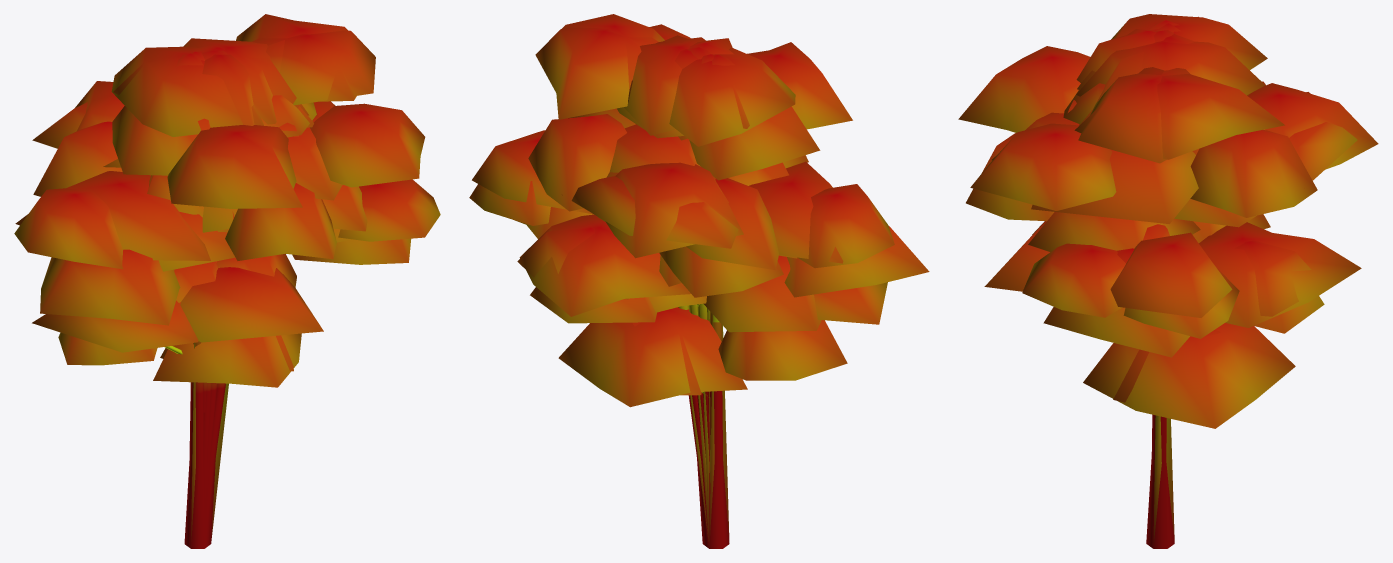
Rendered from coastpine.glb.
The picture shows the model from 3 angles, left to right: view 1: azimuth 30°, elevation 25°; view 2: azimuth 150°, elevation 25°; view 3: azimuth 270°, elevation 25°; orthographic projection. The views are drawn at different scales.
Parts seen in each view (by area): view 1: v0, v2, v3, v1_far, v1, v4, v2_far, v5, v5_far, v3_far, v0_far, v4_far; view 2: v2, v0, v4, v3, v1, v1_far, v2_far, v5_far, v4_far, v3_far, v0_far, v5; view 3: v1, v0, v1_far, v3, v4, v2, v0_far, v5, v2_far, v5_far, v4_far, v3_far.
Boxes of the visible parts, left/top/right/bottom form: v0: left=40, top=38, right=367, bottom=546; v2: left=14, top=46, right=342, bottom=548; v3: left=112, top=54, right=411, bottom=412; v1_far: left=180, top=30, right=375, bottom=540; v1: left=204, top=14, right=425, bottom=548; v4: left=58, top=53, right=301, bottom=387; v2_far: left=15, top=56, right=210, bottom=547; v5: left=103, top=95, right=440, bottom=543; v5_far: left=32, top=102, right=352, bottom=538; v3_far: left=33, top=50, right=298, bottom=262; v0_far: left=158, top=45, right=335, bottom=271; v4_far: left=160, top=52, right=293, bottom=371; v2: left=519, top=47, right=894, bottom=548; v0: left=605, top=37, right=929, bottom=538; v4: left=558, top=54, right=847, bottom=407; v3: left=515, top=38, right=820, bottom=414; v1: left=469, top=24, right=709, bottom=548; v1_far: left=472, top=14, right=709, bottom=547; v2_far: left=517, top=65, right=843, bottom=546; v5_far: left=562, top=176, right=887, bottom=545; v4_far: left=632, top=54, right=821, bottom=395; v3_far: left=686, top=47, right=778, bottom=482; v0_far: left=530, top=35, right=796, bottom=543; v5: left=606, top=107, right=715, bottom=457; v1: left=970, top=67, right=1284, bottom=548; v0: left=958, top=41, right=1378, bottom=508; v1_far: left=984, top=68, right=1264, bottom=548; v3: left=966, top=29, right=1317, bottom=357; v4: left=1083, top=20, right=1295, bottom=428; v2: left=992, top=14, right=1361, bottom=518; v0_far: left=1031, top=33, right=1324, bottom=503; v5: left=1022, top=83, right=1250, bottom=519; v2_far: left=1171, top=16, right=1311, bottom=513; v5_far: left=1032, top=92, right=1357, bottom=514; v4_far: left=1113, top=23, right=1220, bottom=402; v3_far: left=1065, top=30, right=1265, bottom=240.
Bounding box in the file's own units: 9.29 × 10.56 × 7.71.
